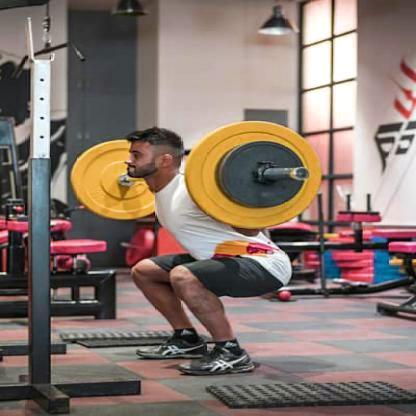Barbell: (283, 166, 312, 183)
